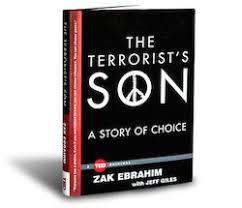Paper: (53, 5, 212, 202)
